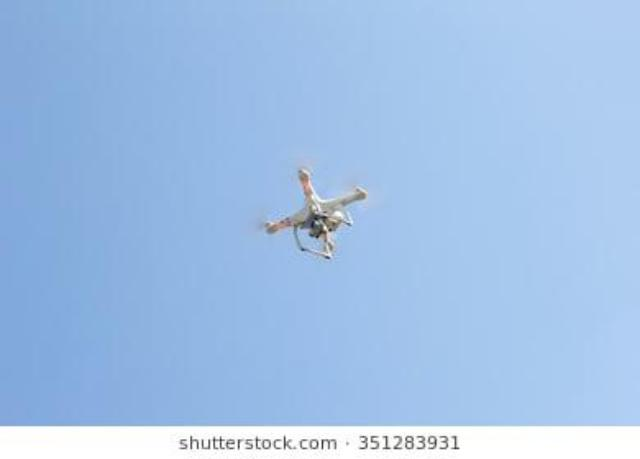drone: (0, 245, 640, 459)
